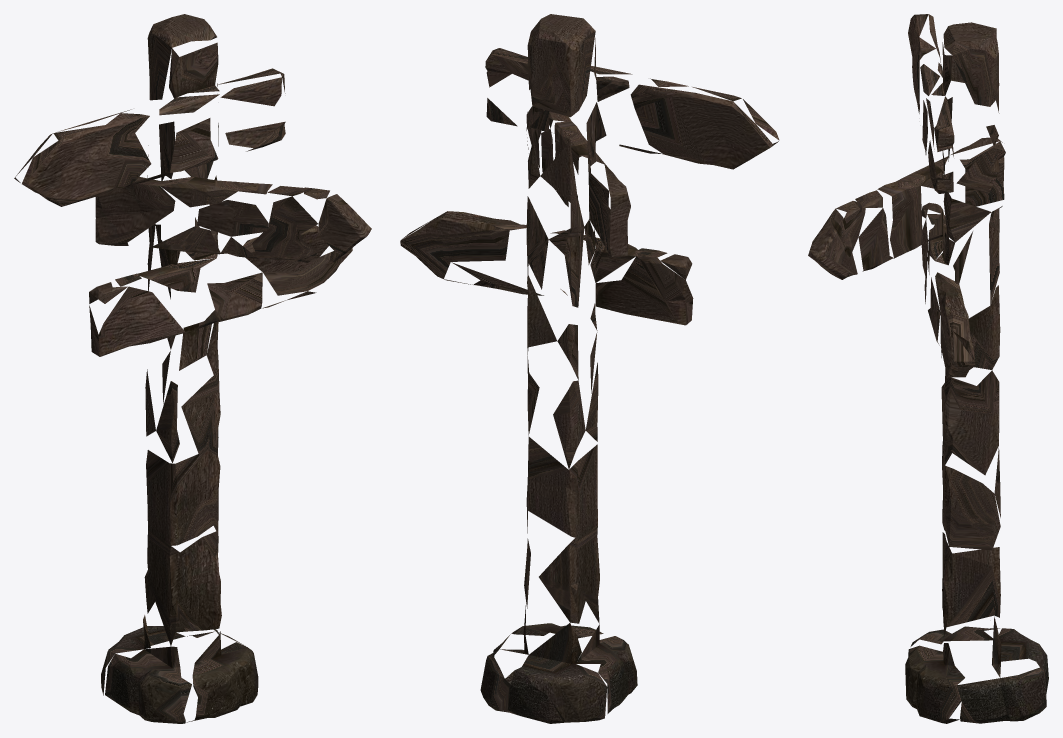
The model's file is prp_signpost_a_LOD1.glb.
3 views of the same model, side by side, from view 1: azimuth 30°, elevation 25°; view 2: azimuth 150°, elevation 25°; view 3: azimuth 270°, elevation 25° (orthographic).
Parts seen in each view (by area): view 1: geometry_0; view 2: geometry_0; view 3: geometry_0.
Part boxes in pixels (x1,y1,x2,y2): geometry_0: (14,14,371,723); geometry_0: (400,14,779,723); geometry_0: (808,14,1048,723).
Bounding box in the file's own units: 1.42 × 2.6 × 0.8531.
1 material, 1 textured.
